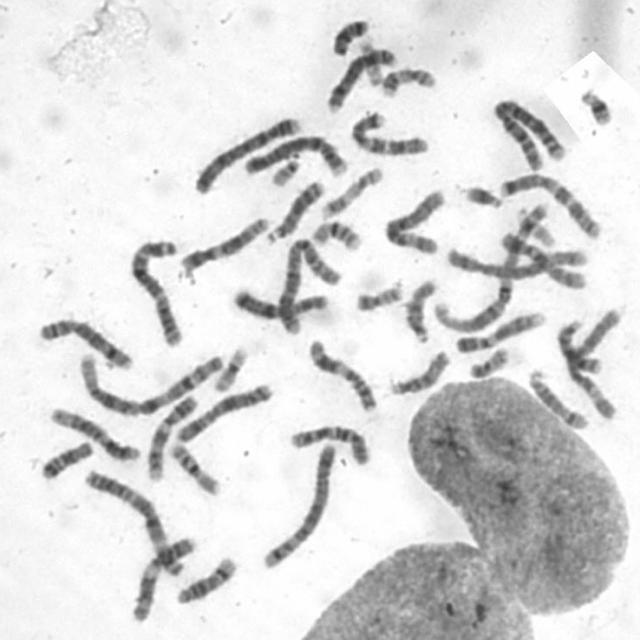A1: (430, 194, 557, 336), (71, 344, 226, 418)
A2: (272, 230, 342, 336), (486, 90, 569, 170)
A3: (77, 460, 187, 578), (122, 230, 186, 348)
B4: (187, 109, 303, 196), (238, 128, 348, 178)
B5: (256, 436, 338, 571), (440, 238, 590, 287)
C10: (493, 225, 589, 292), (282, 416, 374, 466)
C11: (125, 527, 199, 624), (302, 331, 380, 414)
C12: (43, 399, 142, 463), (174, 210, 272, 272)
C6: (558, 301, 624, 423), (378, 181, 448, 255)
C7: (492, 165, 604, 241), (344, 104, 431, 157)
C8: (31, 310, 136, 372), (320, 40, 400, 114)
C9: (140, 388, 200, 482), (450, 304, 547, 354)
D13: (258, 173, 327, 245), (551, 312, 605, 374)
D14: (522, 362, 591, 431), (170, 549, 238, 606)
D15: (382, 343, 452, 398), (399, 272, 439, 345)
E16: (163, 436, 223, 496), (304, 213, 364, 251)
E17: (316, 160, 386, 219), (375, 59, 438, 99)
E18: (34, 432, 95, 480), (325, 11, 372, 56)
F19: (207, 339, 251, 393), (353, 33, 387, 87)
F20: (348, 275, 406, 312), (463, 339, 512, 380)
G21: (573, 81, 616, 127), (458, 177, 505, 210)
G22: (510, 200, 558, 248), (265, 149, 303, 187)
X: (171, 375, 275, 444), (226, 280, 332, 321)
